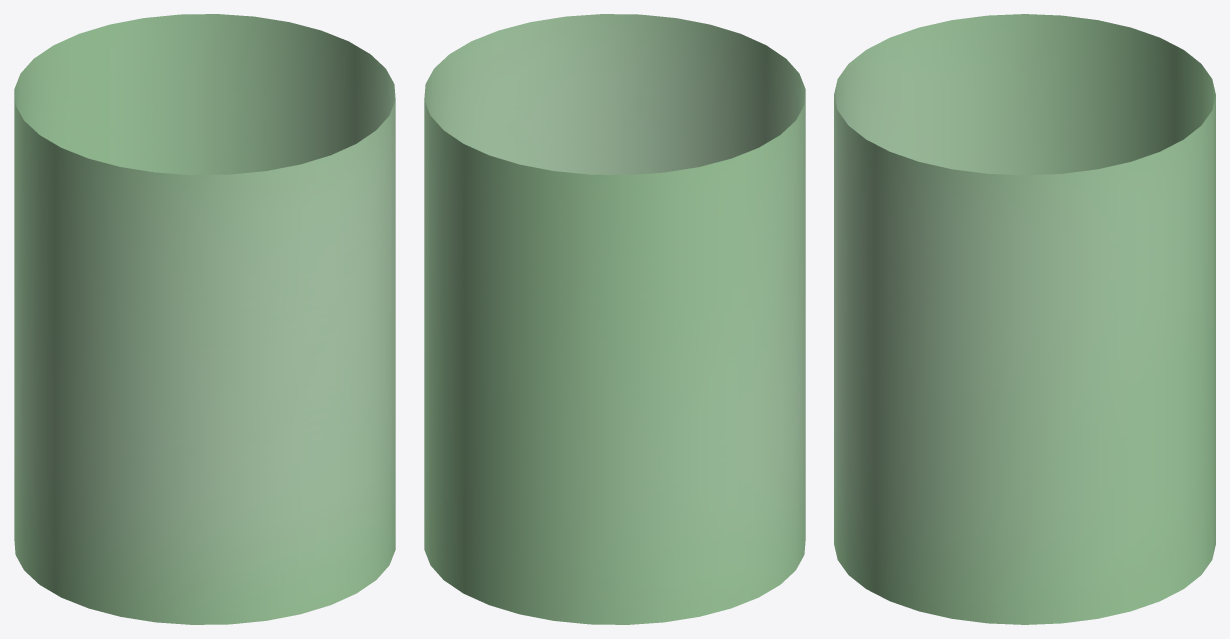
Rendered from Glass.fbx.
3 views of the same model, side by side, from view 1: azimuth 30°, elevation 25°; view 2: azimuth 150°, elevation 25°; view 3: azimuth 270°, elevation 25° (orthographic).
Parts seen in each view (by area): view 1: Glass; view 2: Glass; view 3: Glass.
Part boxes in pixels (x1=…): Glass: x1=14, y1=14, x2=395, y2=624; Glass: x1=424, y1=14, x2=805, y2=624; Glass: x1=834, y1=14, x2=1215, y2=624.
Size of the model in its own units: 200 by 260 by 200.
